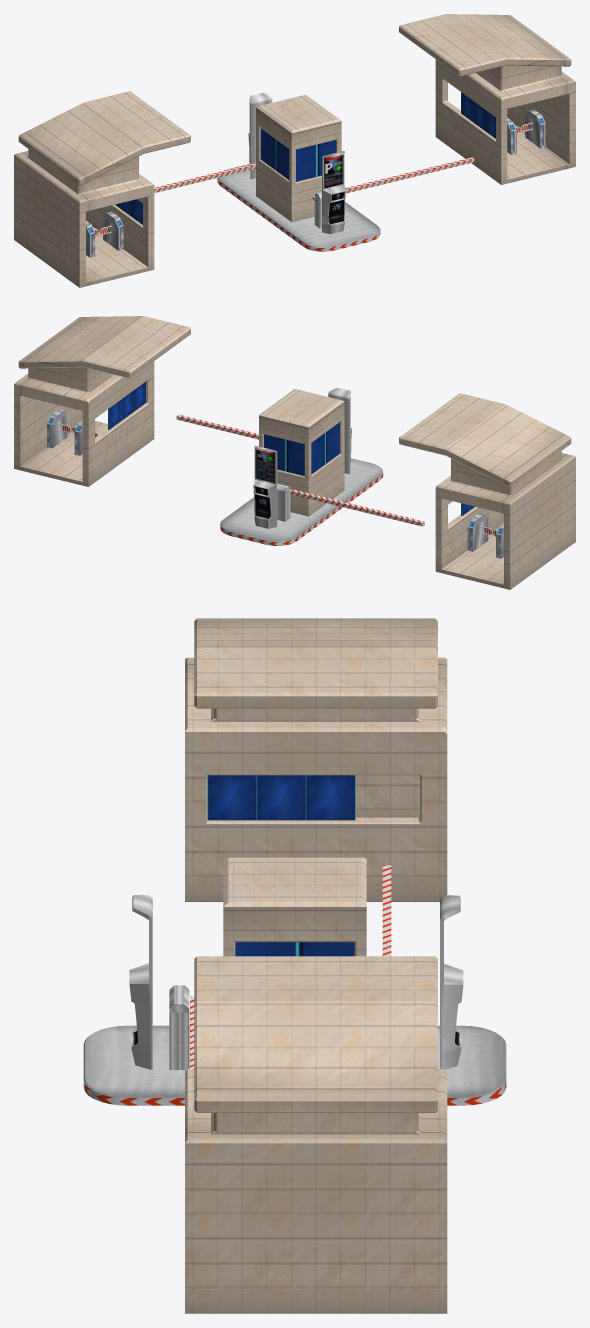
The model's file is barrier_gate_fbx_1.FBX.
3 renders of one model, top to bottom at view 1: azimuth 30°, elevation 25°; view 2: azimuth 150°, elevation 25°; view 3: azimuth 270°, elevation 25°, orthographic. The views are drawn at different scales.
Visible parts, largest first — view 1: daozhaf004, daozhaf003, Rectangle043, didaoczf002, barrier_gate_in_3, feboa005, barrier_gate_out_3, waidq002, rendz009, rendz010, bar_1, feboa006; view 2: daozhaf004, daozhaf003, Rectangle043, didaoczf002, barrier_gate_out_3, barrier_gate_in_3, feboa005, bar_1, waidq002, rendz010, rendz009; view 3: daozhaf003, daozhaf004, Rectangle043, didaoczf002, feboa006, barrier_gate_in_3, barrier_gate_out_3, waidq002, bar_1.
Part boxes in pixels (bbox=[...]): daozhaf004: bbox=[14, 91, 190, 287]; daozhaf003: bbox=[399, 14, 575, 184]; Rectangle043: bbox=[256, 95, 341, 222]; didaoczf002: bbox=[217, 164, 380, 247]; barrier_gate_in_3: bbox=[312, 151, 474, 234]; feboa005: bbox=[461, 92, 495, 138]; barrier_gate_out_3: bbox=[248, 93, 272, 179]; waidq002: bbox=[217, 178, 380, 251]; rendz009: bbox=[525, 109, 545, 148]; rendz010: bbox=[103, 211, 123, 250]; bar_1: bbox=[154, 163, 255, 192]; feboa006: bbox=[115, 199, 142, 224]; daozhaf004: bbox=[399, 393, 575, 589]; daozhaf003: bbox=[14, 316, 190, 486]; Rectangle043: bbox=[259, 389, 344, 516]; didaoczf002: bbox=[220, 458, 383, 542]; barrier_gate_out_3: bbox=[253, 445, 290, 528]; barrier_gate_in_3: bbox=[176, 387, 351, 474]; feboa005: bbox=[108, 381, 145, 429]; bar_1: bbox=[290, 489, 424, 526]; waidq002: bbox=[220, 473, 383, 545]; rendz010: bbox=[467, 512, 488, 551]; rendz009: bbox=[47, 409, 67, 448]; daozhaf003: bbox=[185, 956, 447, 1313]; daozhaf004: bbox=[185, 618, 447, 901]; Rectangle043: bbox=[223, 857, 366, 956]; didaoczf002: bbox=[83, 1025, 506, 1097]; feboa006: bbox=[207, 775, 355, 820]; barrier_gate_in_3: bbox=[129, 894, 194, 1069]; barrier_gate_out_3: bbox=[440, 895, 463, 1069]; waidq002: bbox=[83, 1080, 506, 1105]; bar_1: bbox=[382, 865, 391, 956].
Bounding box in the file's own units: 233 × 55.38 × 85.96.
Materials: 13 (13 with a texture image).
